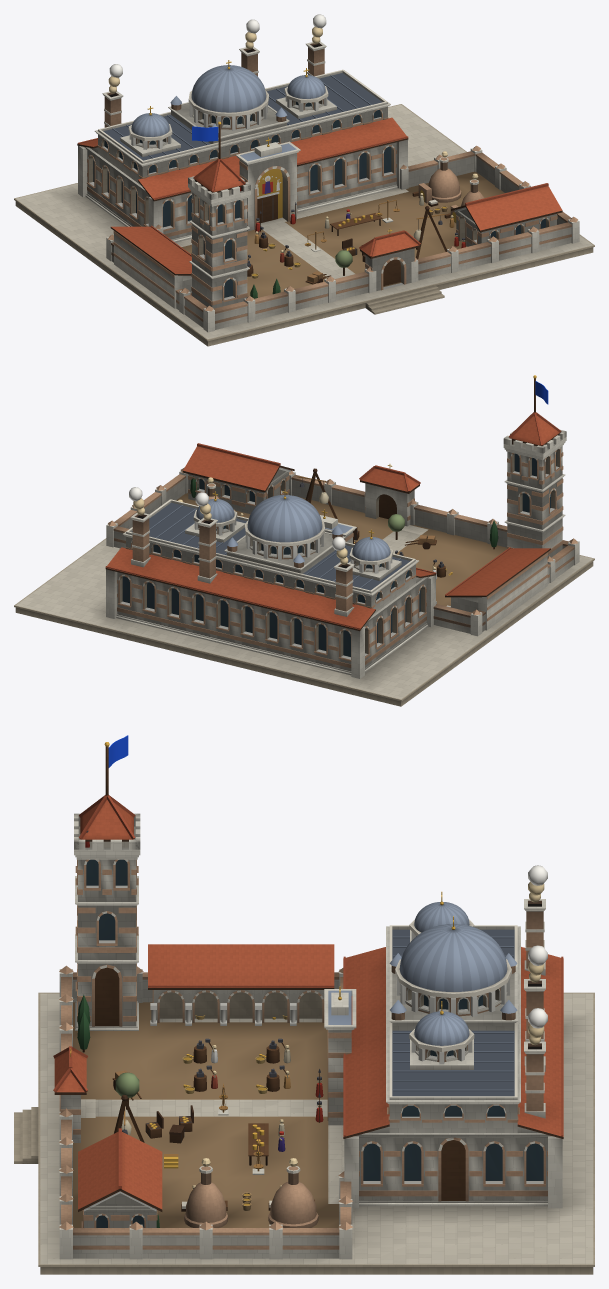
File: lm_darphane.glb
The picture shows the model from 3 angles, top to bottom: view 1: azimuth 30°, elevation 25°; view 2: azimuth 150°, elevation 25°; view 3: azimuth 270°, elevation 25°; orthographic projection. The views are drawn at different scales.
Parts seen in each view (by area): view 1: lm_darphane; view 2: lm_darphane; view 3: lm_darphane.
Boxes of the visible parts, x1=… form: lm_darphane: x1=14, y1=14, x2=594, y2=346; lm_darphane: x1=14, y1=375, x2=594, y2=706; lm_darphane: x1=14, y1=735, x2=594, y2=1274.
Size of the model in its own units: 2.21 by 1.09 by 2.
1 material, 1 textured.
